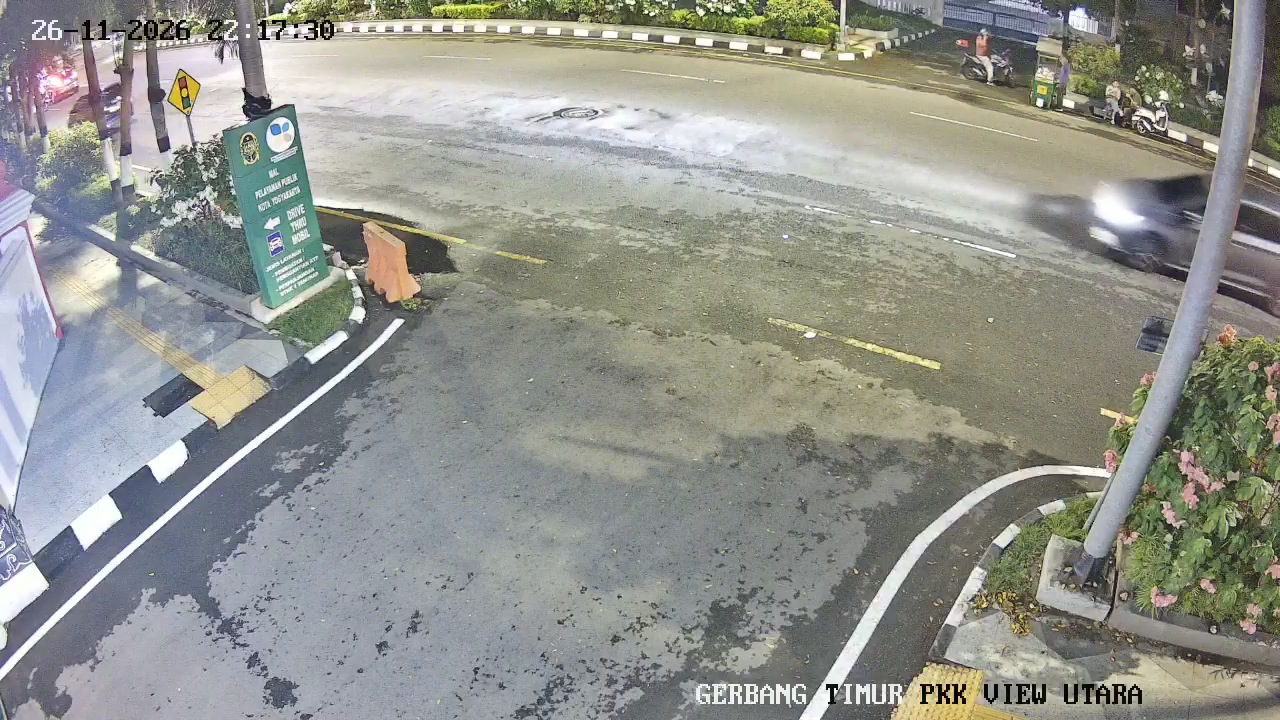Gerobak: (1028, 34, 1070, 110)
